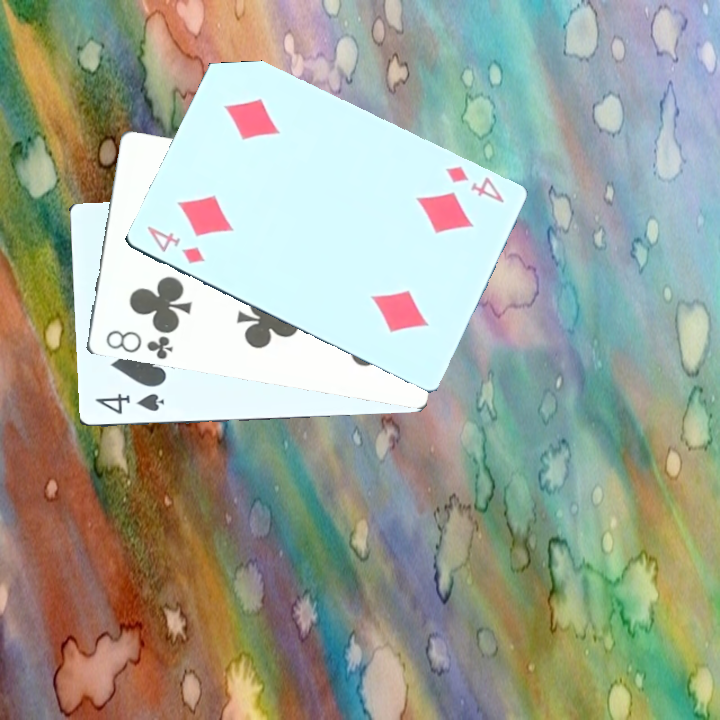4d: (142, 221, 208, 267), (441, 161, 507, 206)
4s: (91, 389, 167, 417)
8c: (101, 326, 175, 361)
